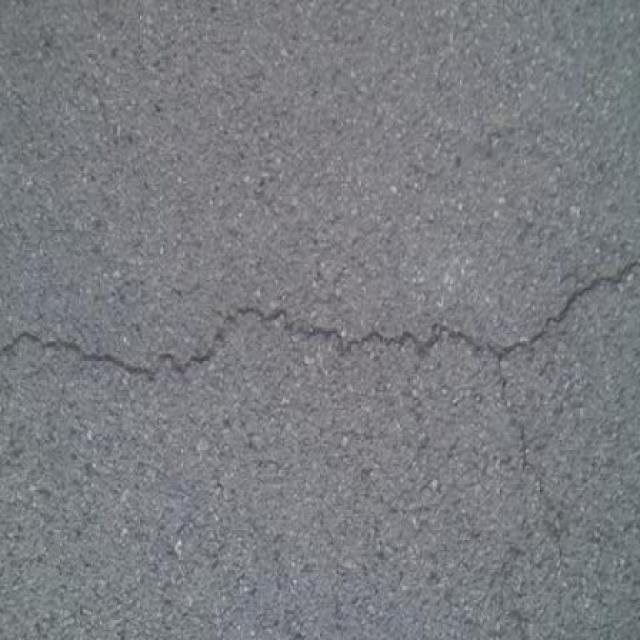Alligator Crack: (0, 261, 640, 533)
